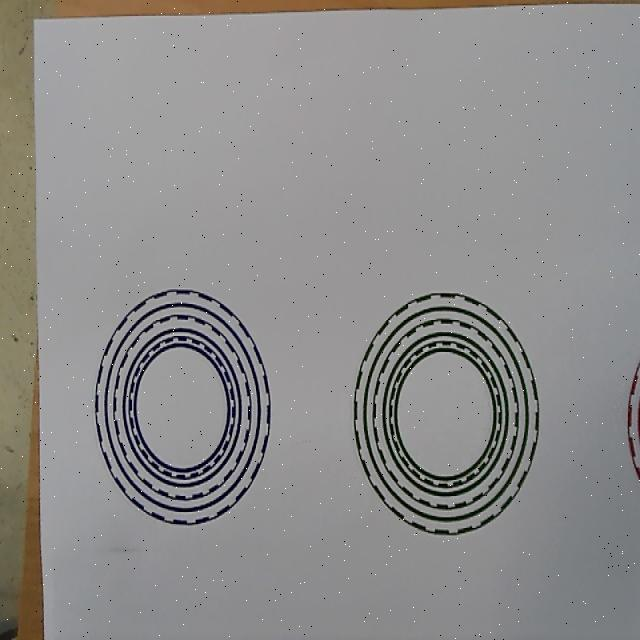b: (95, 288, 271, 526)
g: (354, 292, 539, 537)
